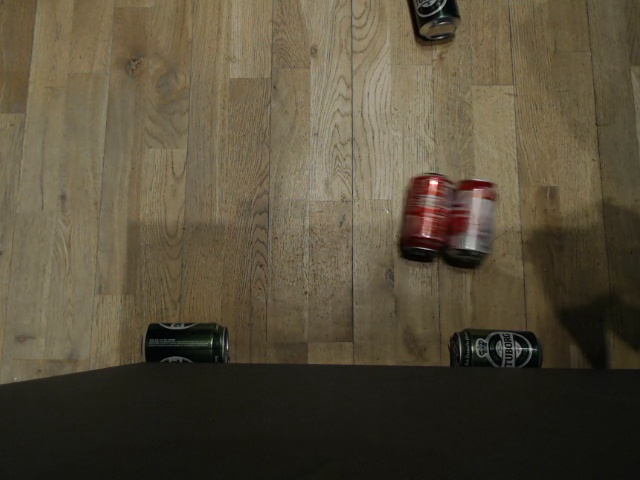beer: (140, 320, 230, 366), (451, 329, 543, 373), (403, 0, 462, 41)
cola: (396, 169, 453, 259), (447, 176, 500, 259)
